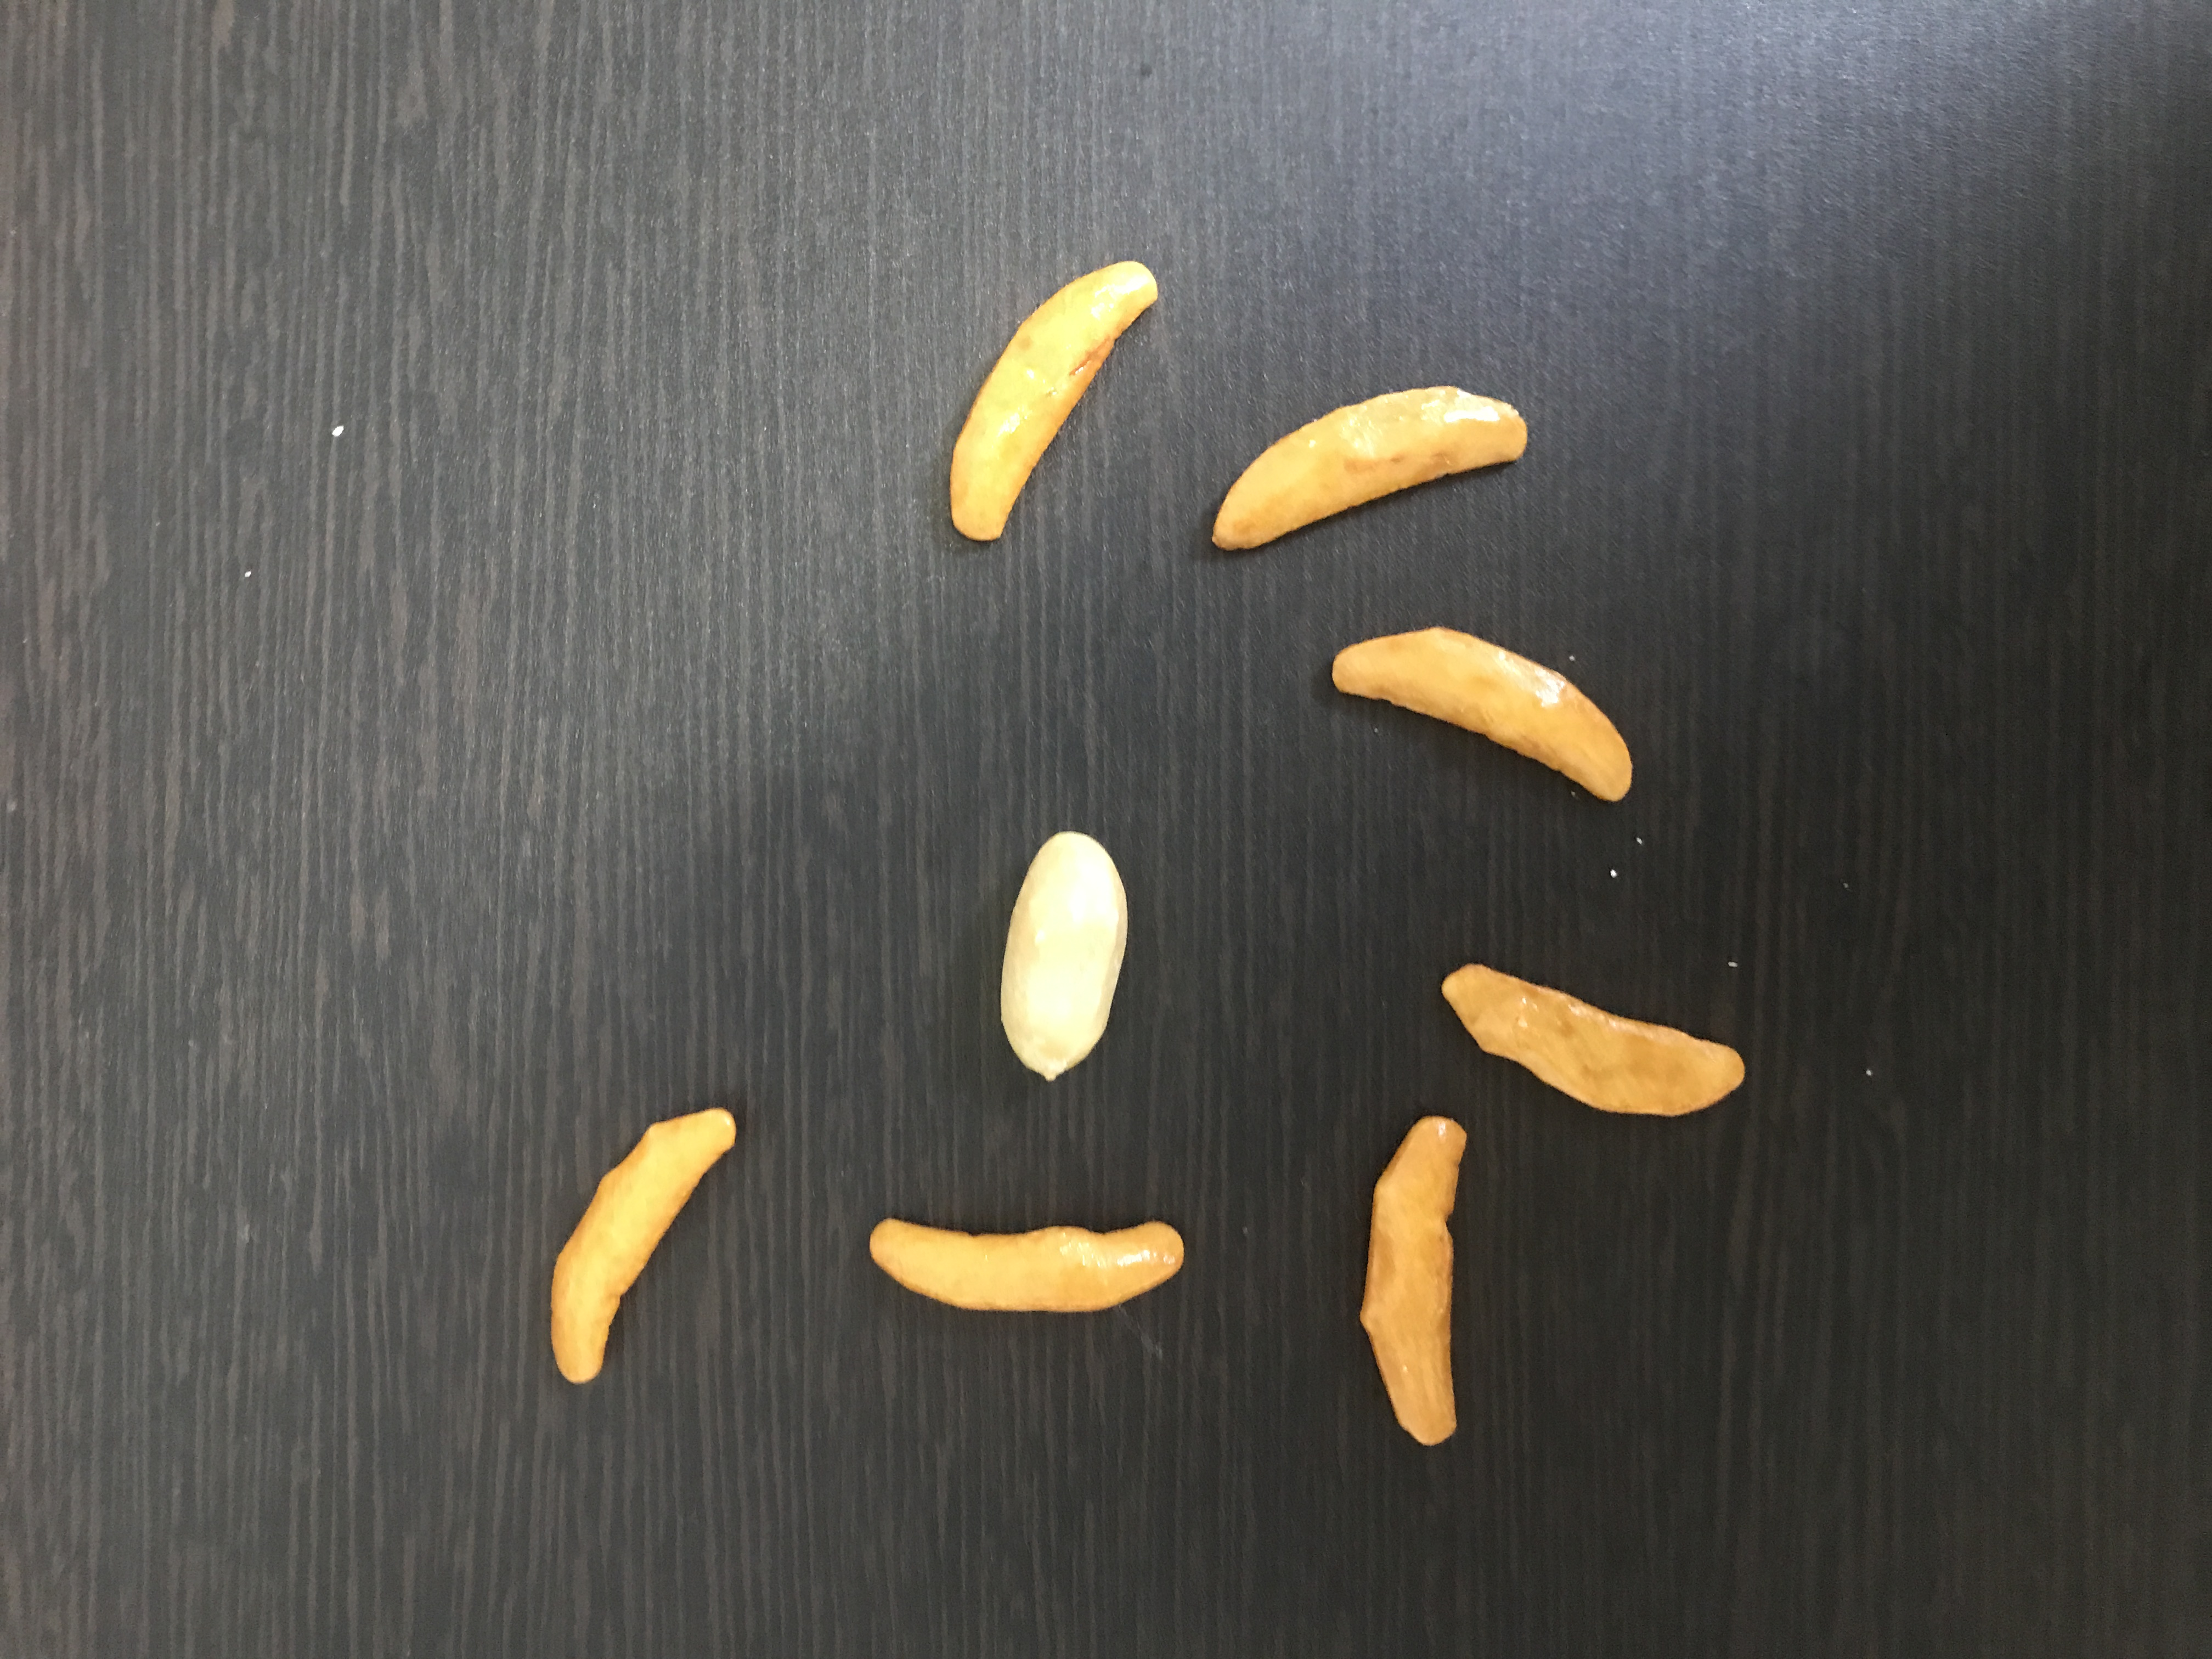peanut: (984, 821, 1151, 1089)
